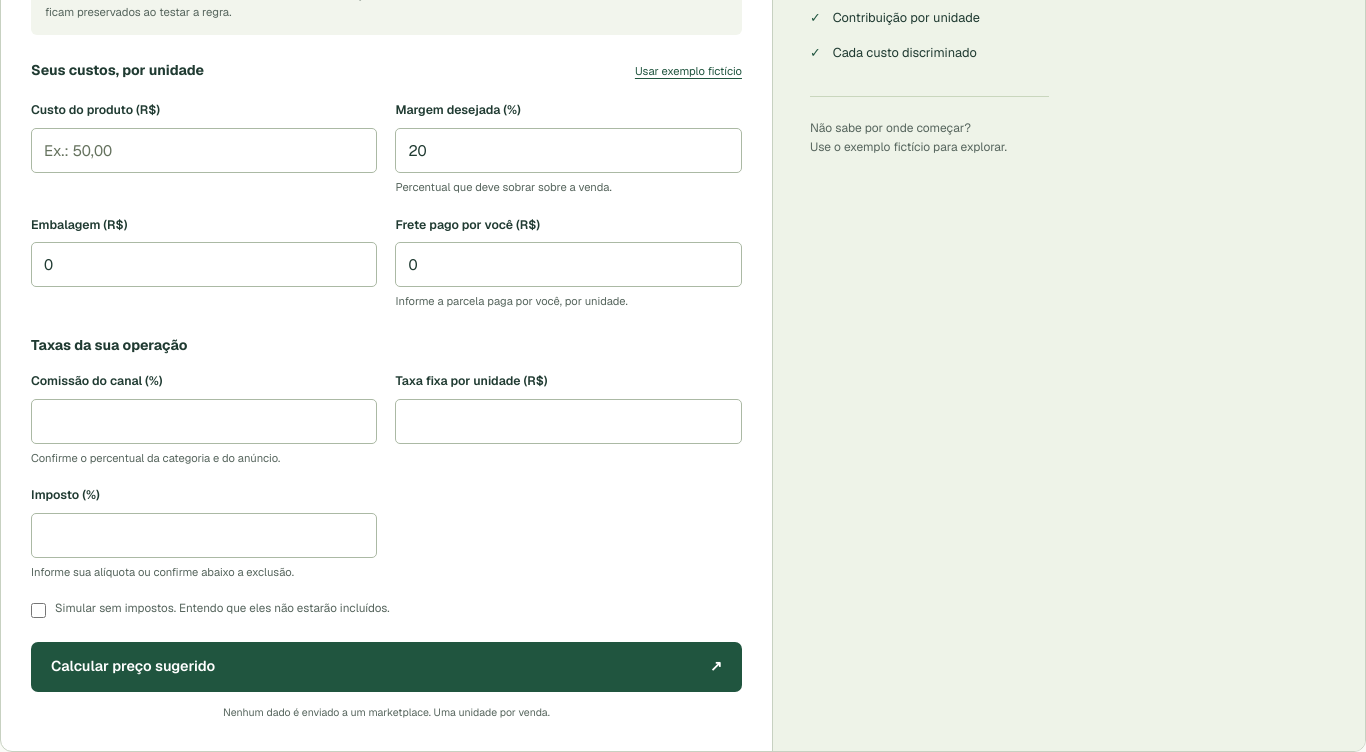
Scenario: Calculator › submit_emptyRequiredFields_marksErrorsWithoutResult
The image size is (1366, 752).
(page scrolled)
Click the button "Calcular preço sugerido ↗": coordinates (133, 666) [31, 642, 742, 692]
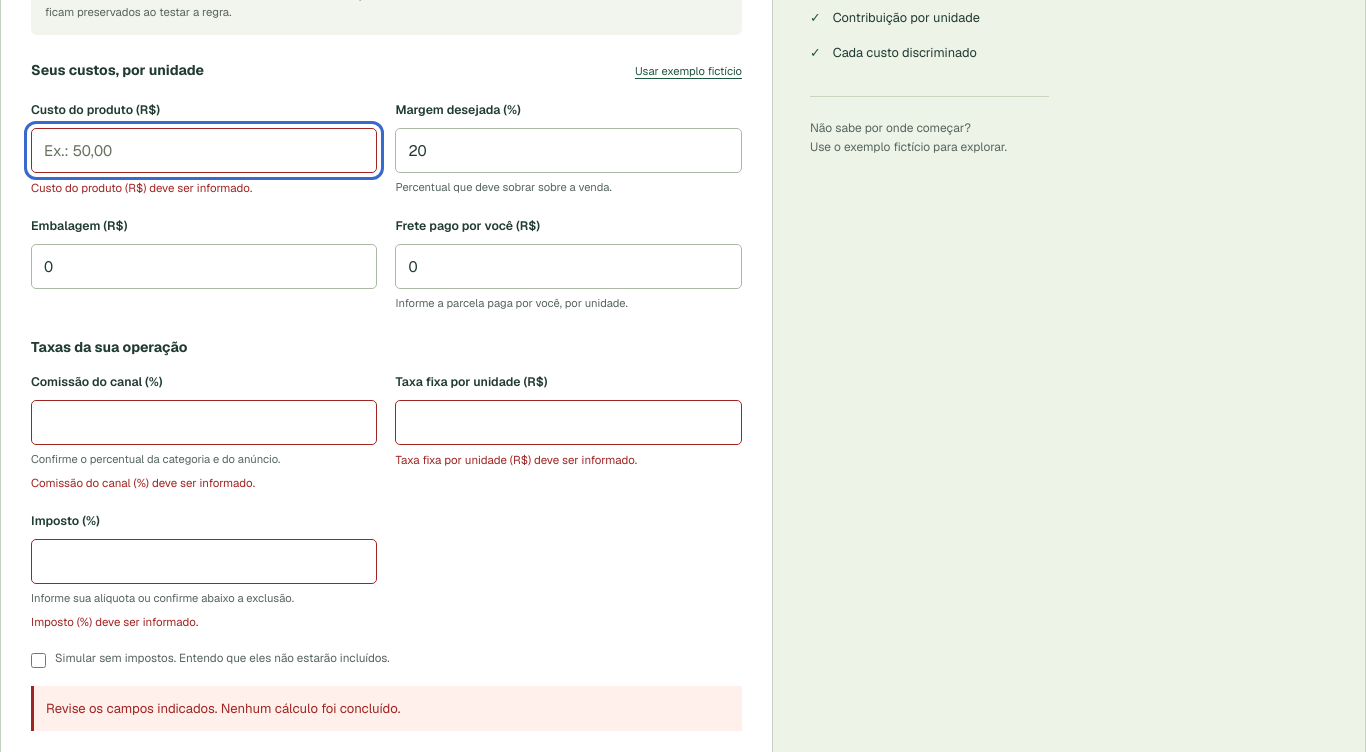
expect the message shows "Revise os campos": met, box [46, 700, 400, 717]
